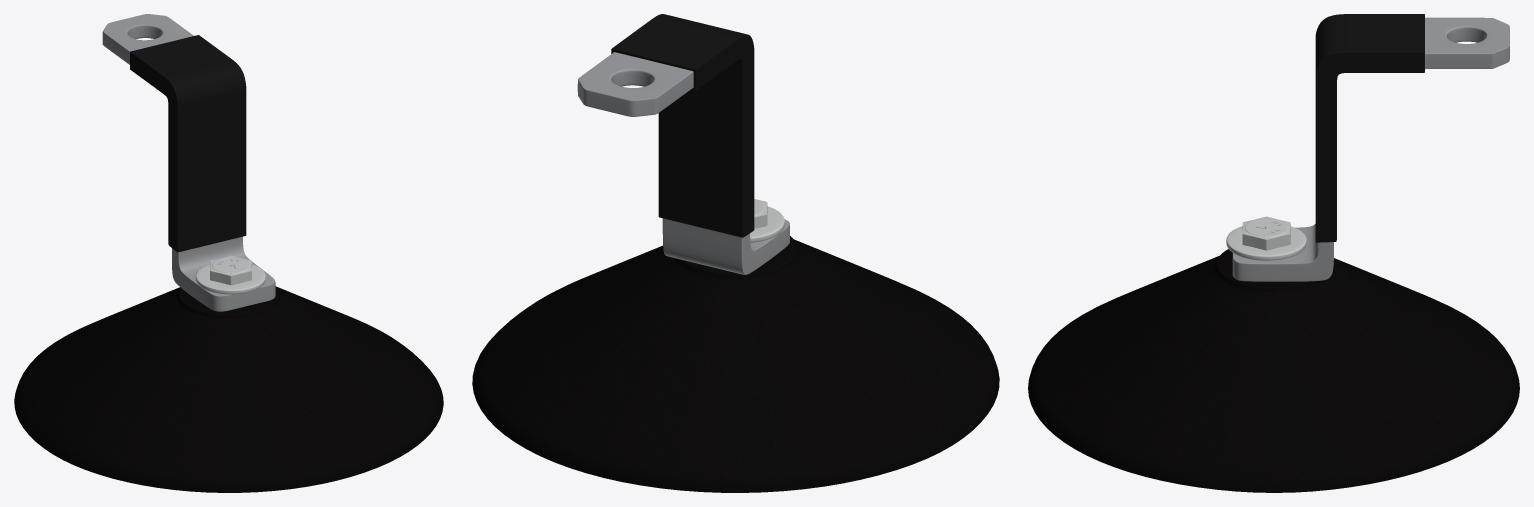
The picture shows the model from 3 angles, left to right: view 1: azimuth 30°, elevation 25°; view 2: azimuth 150°, elevation 25°; view 3: azimuth 270°, elevation 25°; orthographic projection. The views are drawn at different scales.
Parts seen in each view (by area): view 1: base_plate.001, top_angle.001, nut1.001, nut_supporter.001; view 2: base_plate.001, top_angle.001, nut_supporter.001; view 3: base_plate.001, top_angle.001, nut1.001, nut_supporter.001.
Boxes of the visible parts, box(x1,y1,x2,y2) form: base_plate.001: box(14, 286, 443, 492); top_angle.001: box(102, 14, 275, 311); nut1.001: box(210, 255, 251, 285); nut_supporter.001: box(195, 264, 265, 294); base_plate.001: box(472, 236, 999, 492); top_angle.001: box(577, 14, 789, 274); nut_supporter.001: box(750, 206, 784, 242); base_plate.001: box(1028, 249, 1519, 492); top_angle.001: box(1232, 14, 1509, 281); nut1.001: box(1242, 216, 1290, 250); nut_supporter.001: box(1226, 226, 1306, 260).
Size of the model in its own units: 5.13 by 4.14 by 5.16.
1 material, 1 textured.
